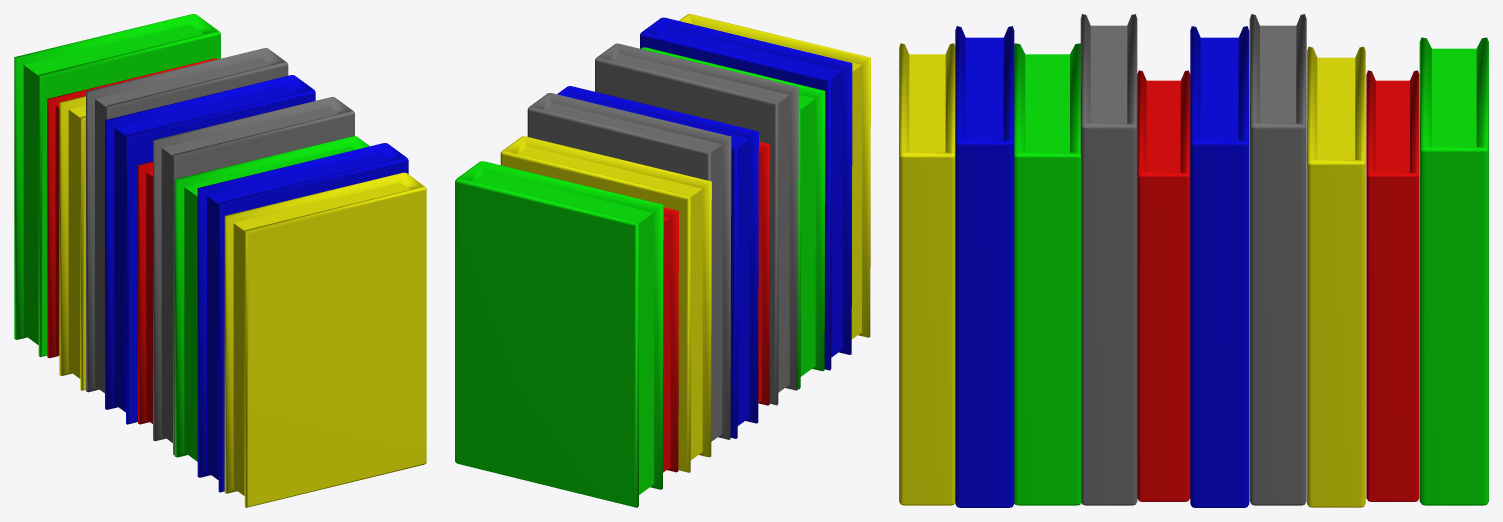
The model's file is SM_bookstack_03.fbx.
The picture shows the model from 3 angles, left to right: view 1: azimuth 30°, elevation 25°; view 2: azimuth 150°, elevation 25°; view 3: azimuth 270°, elevation 25°; orthographic projection. The views are drawn at different scales.
Parts seen in each view (by area): view 1: SM_bookstack_03; view 2: SM_bookstack_03; view 3: SM_bookstack_03.
Boxes of the visible parts, bbox=[...] form: SM_bookstack_03: bbox=[14, 14, 426, 507]; SM_bookstack_03: bbox=[455, 14, 870, 507]; SM_bookstack_03: bbox=[899, 14, 1488, 507].
Bounding box in the file's own units: 43.48 × 66.01 × 92.55.
